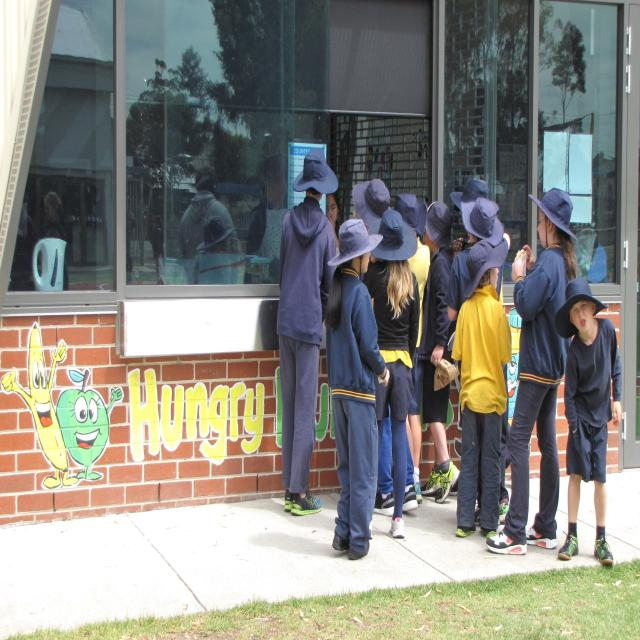body: (484, 186, 578, 557), (443, 192, 515, 537), (322, 212, 392, 565), (276, 147, 339, 517), (553, 272, 625, 571), (448, 233, 515, 540), (362, 204, 422, 540), (352, 178, 411, 517), (177, 131, 289, 288), (415, 199, 462, 505), (391, 191, 432, 506), (39, 189, 73, 293), (449, 175, 489, 257), (145, 162, 171, 286), (326, 192, 341, 242)
